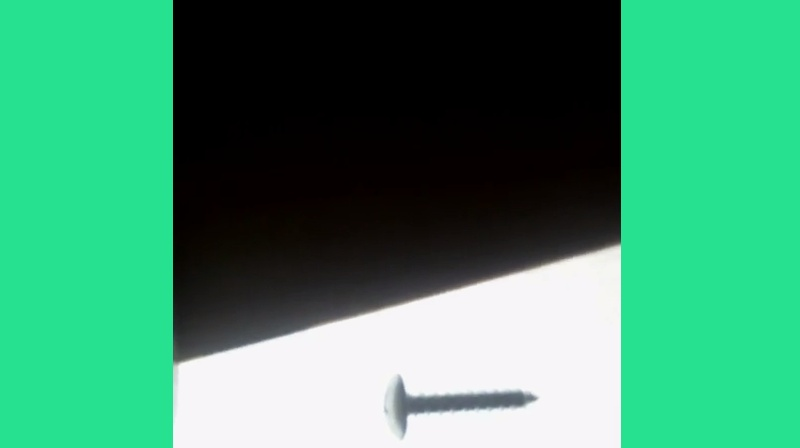S003: (377, 368, 541, 440)
